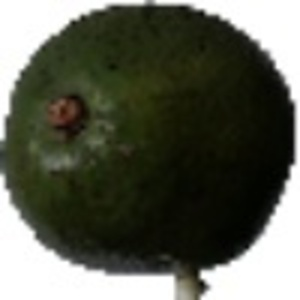abacate: (2, 3, 295, 269)
